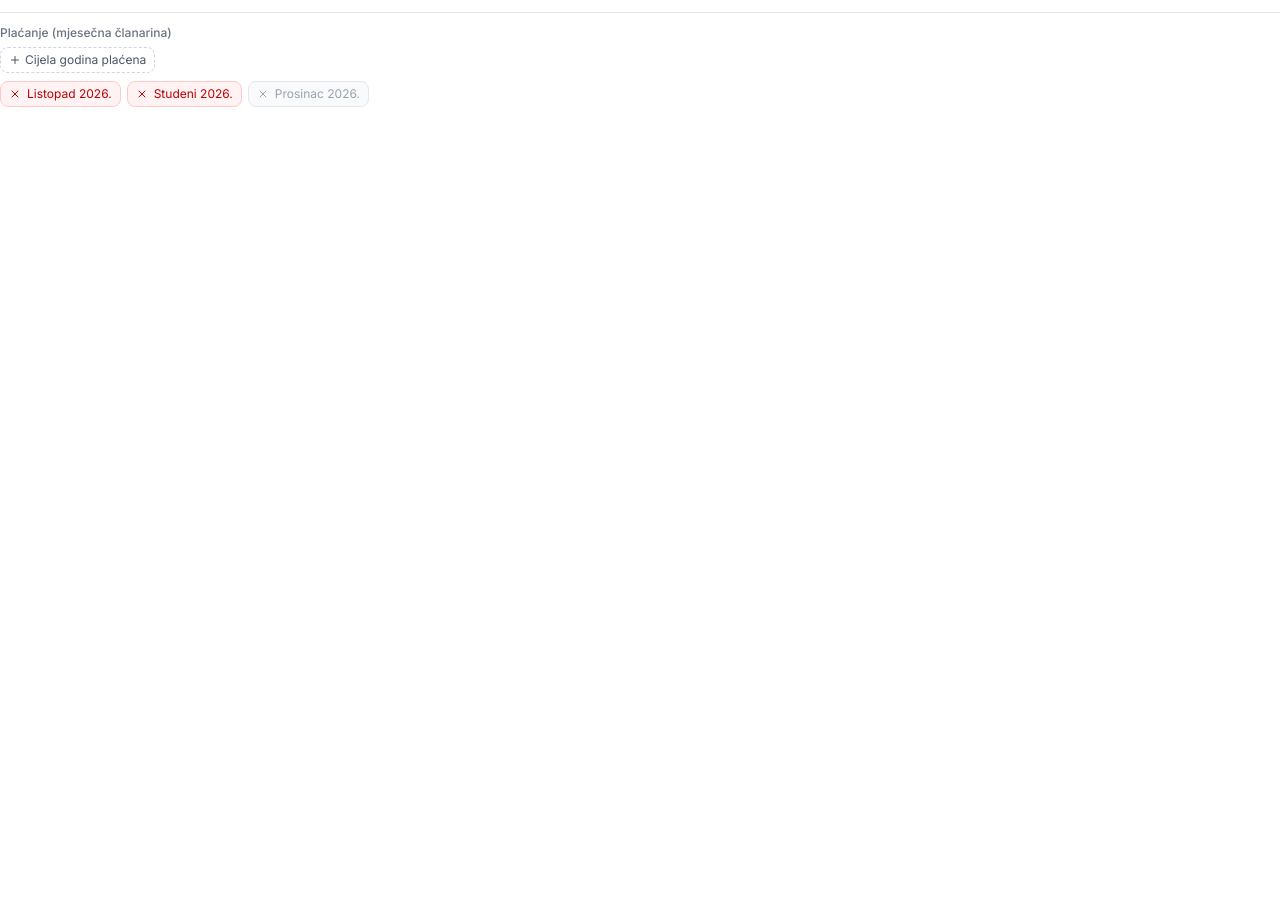
Scenario: EnrollmentPaymentPanel — nothing is written on the first click › spells out what the full-year mark covers on a monthly-billed program
Click the button "Cijela godina plaćena". click: [78, 60]
box: x1=0 y1=47 x2=155 y2=73
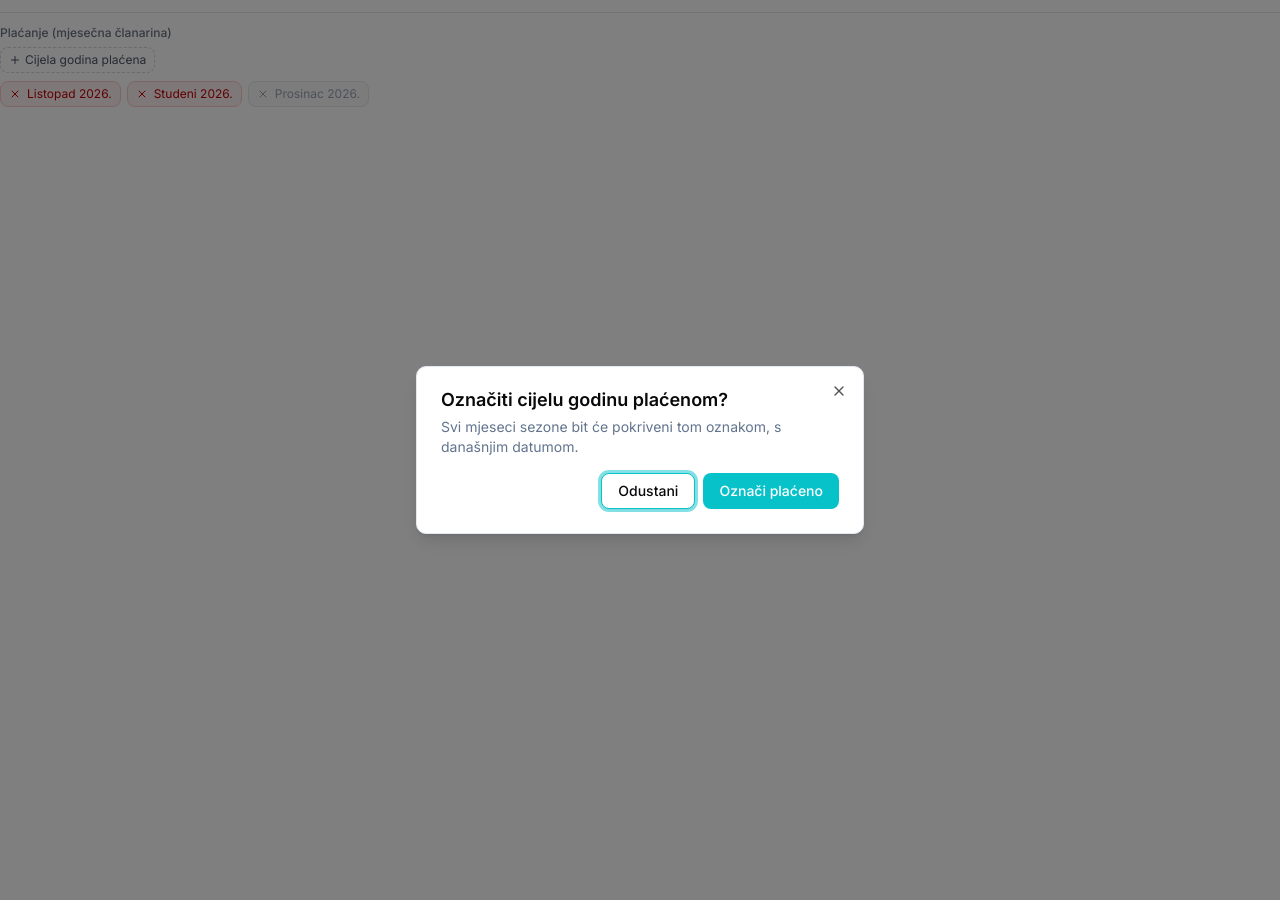
Now the text "Svi mjeseci sezone" is shown, box x1=441 y1=418 x2=781 y2=455
